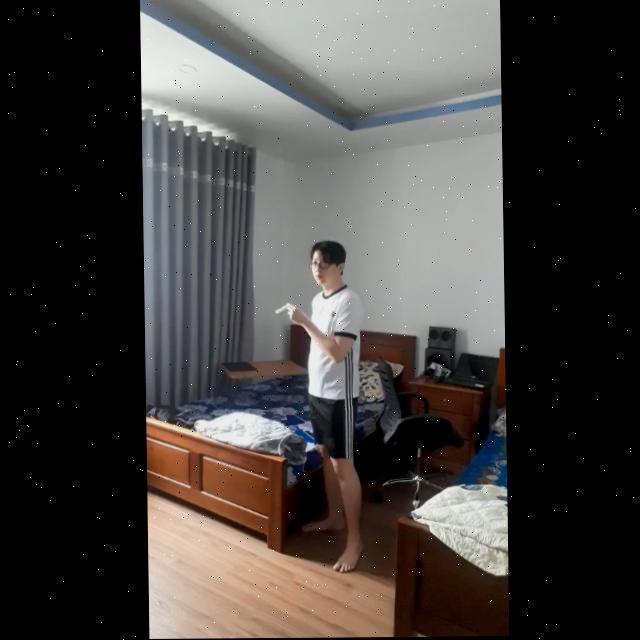cigarette: (273, 305, 286, 314)
